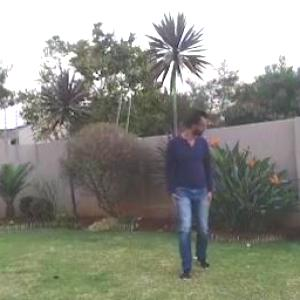follow: (162, 103, 219, 283)
